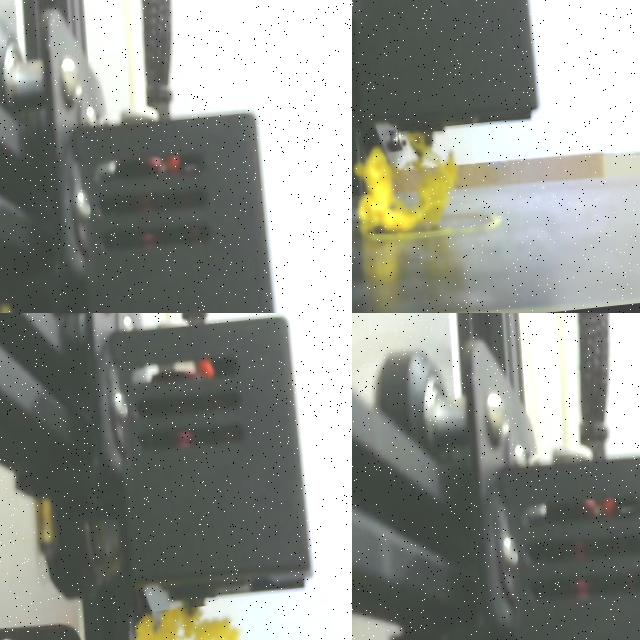spaghetti: (354, 147, 458, 234), (133, 608, 243, 640), (408, 132, 430, 168)
